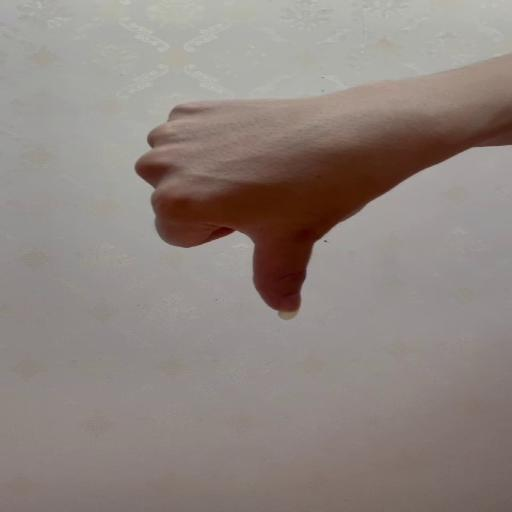thumbs_down: (133, 95, 407, 319)
